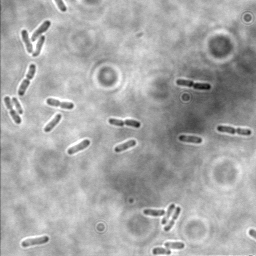Dividing: (16, 61, 37, 97), (3, 95, 23, 126), (174, 77, 212, 92), (162, 205, 182, 232), (214, 125, 253, 137), (44, 97, 76, 111), (107, 118, 142, 129), (19, 28, 33, 55)
Rod: (29, 18, 52, 43), (19, 234, 51, 249), (67, 137, 92, 156), (112, 138, 138, 155), (43, 112, 63, 133), (160, 202, 176, 225), (32, 34, 46, 57), (177, 134, 204, 145), (10, 96, 24, 116), (141, 207, 166, 218), (163, 240, 186, 251), (151, 246, 173, 255)
